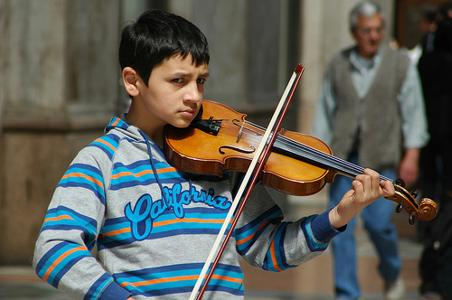person: (33, 11, 398, 300)
